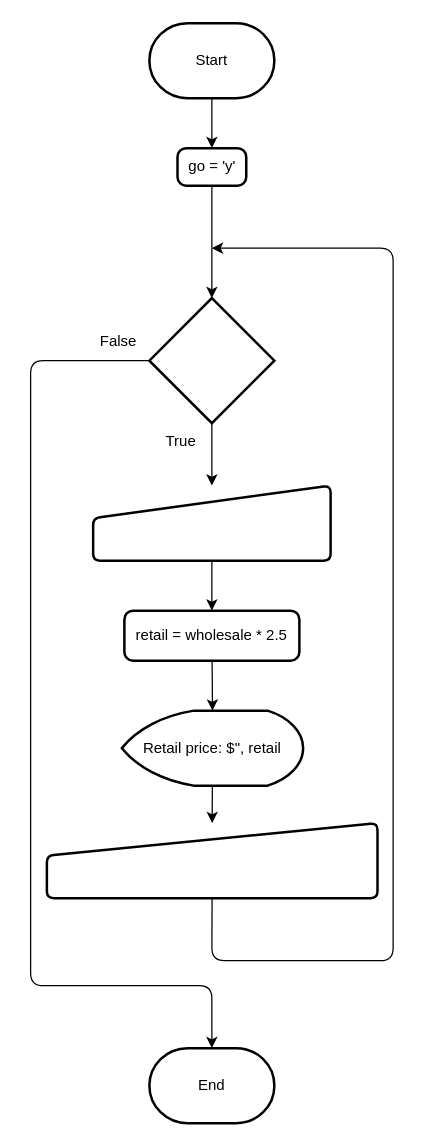
Image size: 425x1145. Some labels were removed from this diagram. The shapes that lost their labels are listed below. From the top down, each one's centre as x and y in pixels, then its label:
[211,360]: go == 'y'
[211,522]: Enter the item's wholesale cost:
[211,860]: Do you have another item? (Enter y for yes):
